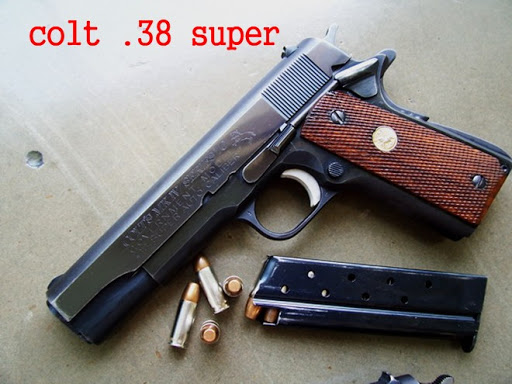gun: (25, 36, 512, 363)
